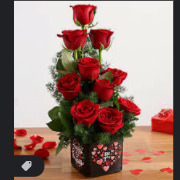RedRose: (70, 99, 100, 127), (96, 108, 124, 137), (56, 27, 88, 52), (69, 2, 96, 28), (56, 72, 82, 99), (77, 56, 102, 84), (88, 27, 115, 50), (93, 78, 115, 103), (102, 67, 128, 87), (118, 97, 140, 115)
